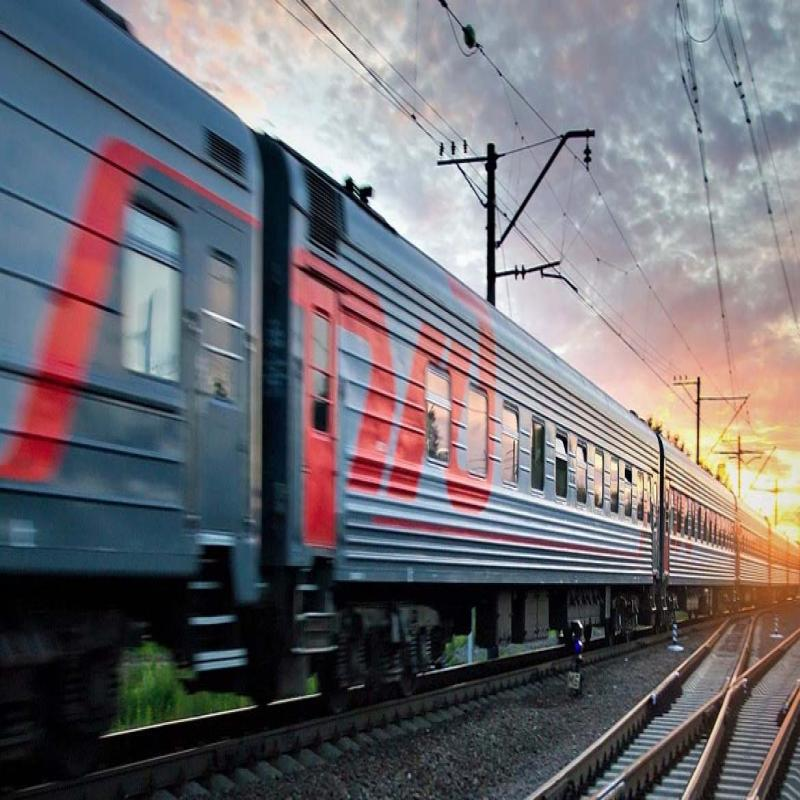train: (94, 13, 681, 718), (645, 407, 746, 642), (721, 486, 779, 607)
